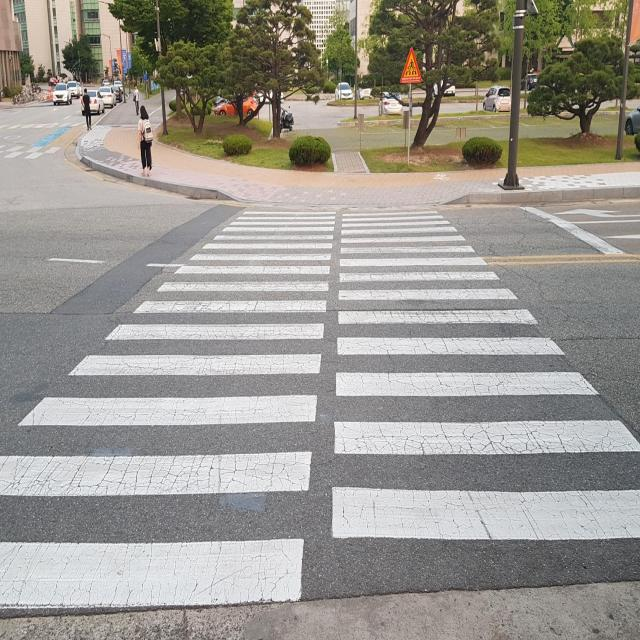횡단보도: (0, 200, 640, 618), (0, 142, 65, 160)
